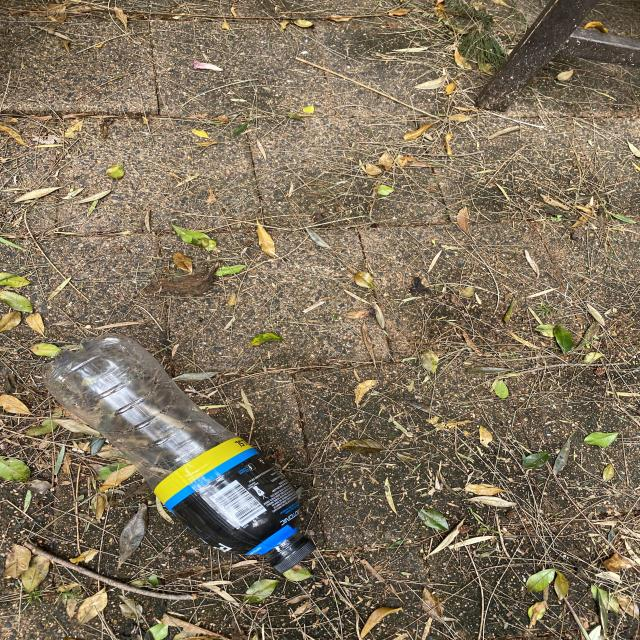bottle: (43, 336, 315, 574)
